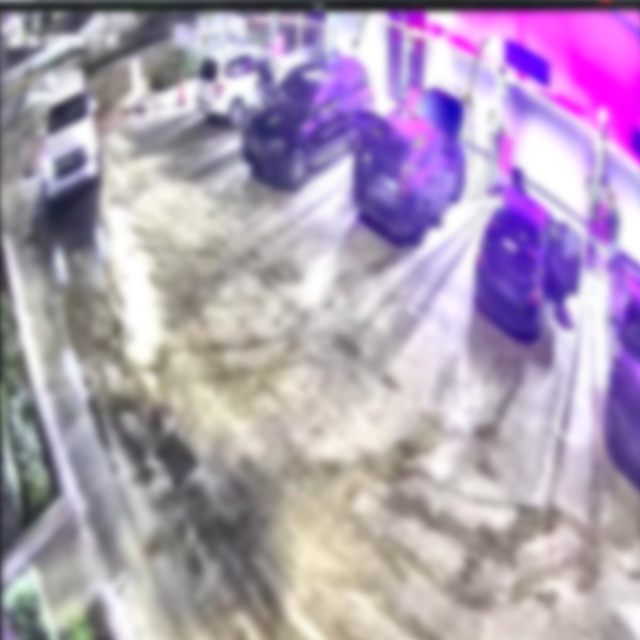Car: (464, 185, 584, 336), (243, 50, 379, 183), (350, 86, 471, 234)
